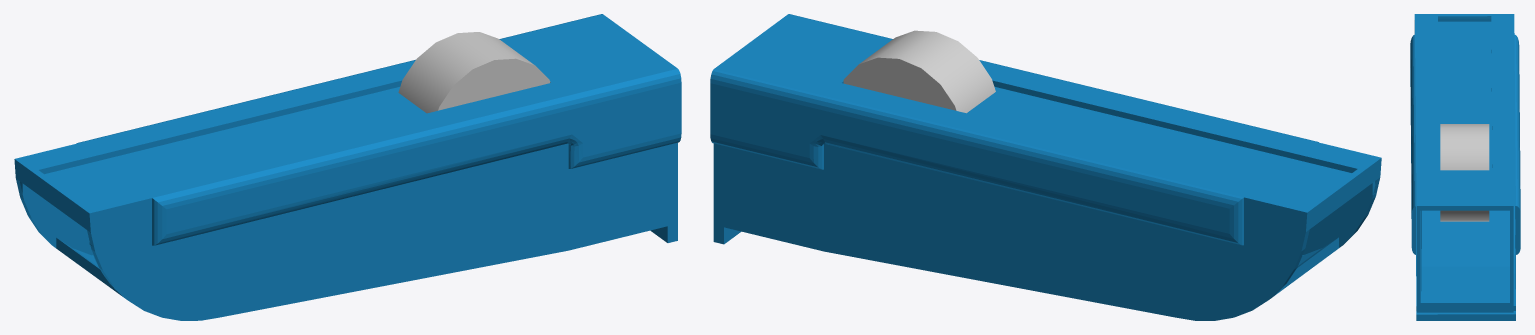
Rendered from IVClamp.fbx.
The picture shows the model from 3 angles, left to right: view 1: azimuth 30°, elevation 25°; view 2: azimuth 150°, elevation 25°; view 3: azimuth 270°, elevation 25°; orthographic projection. The views are drawn at different scales.
Parts seen in each view (by area): view 1: ClampBody_1, ClampRoller; view 2: ClampBody_1, ClampRoller; view 3: ClampBody_1, ClampRoller.
Part boxes in pixels (x1,y1,x2,y2): ClampBody_1: (14,14,681,320); ClampRoller: (398,32,550,113); ClampBody_1: (710,14,1381,320); ClampRoller: (843,30,995,113); ClampBody_1: (1410,14,1520,320); ClampRoller: (1440,124,1489,221).
Bounding box in the file's own units: 8.7 × 2.93 × 2.11.
